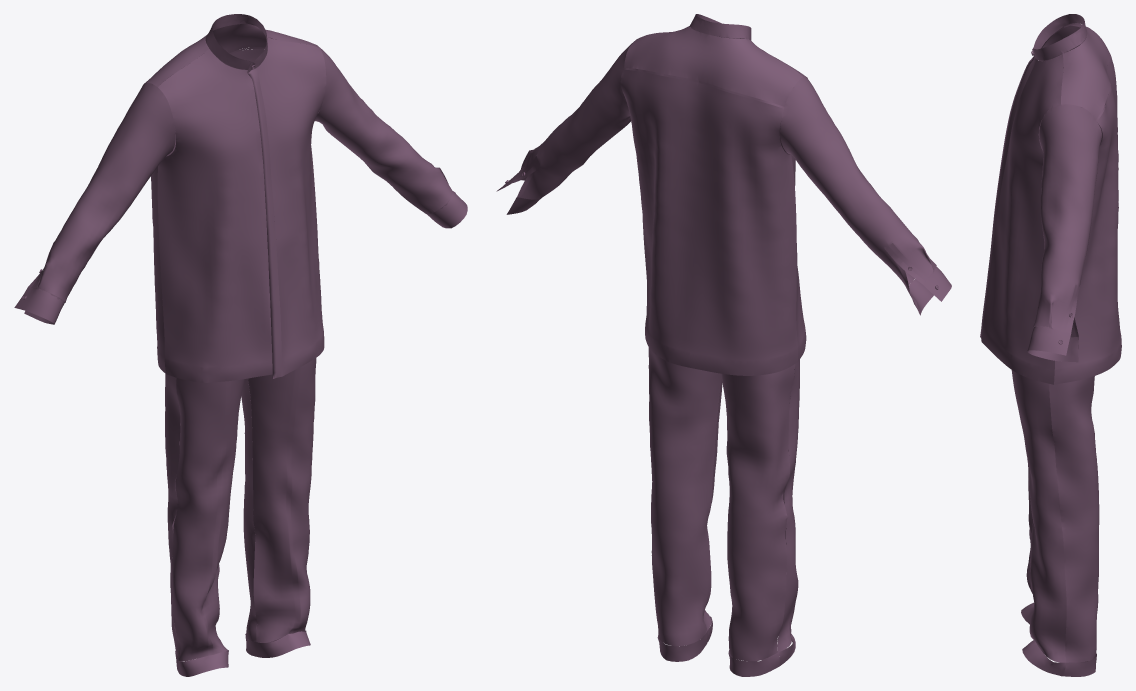
The model's file is 20_LINE_OUTLINE_M.fbx.
3 views of the same model, side by side, from view 1: azimuth 30°, elevation 25°; view 2: azimuth 150°, elevation 25°; view 3: azimuth 270°, elevation 25° (orthographic).
Parts seen in each view (by area): view 1: 20_LINE_OUTLINE_M; view 2: 20_LINE_OUTLINE_M; view 3: 20_LINE_OUTLINE_M.
Boxes of the visible parts, <box> form: 20_LINE_OUTLINE_M: <box>14,14,467,676</box>; 20_LINE_OUTLINE_M: <box>496,14,951,676</box>; 20_LINE_OUTLINE_M: <box>980,14,1121,676</box>.
Bounding box in the file's own units: 1.19 × 1.64 × 0.3334.
